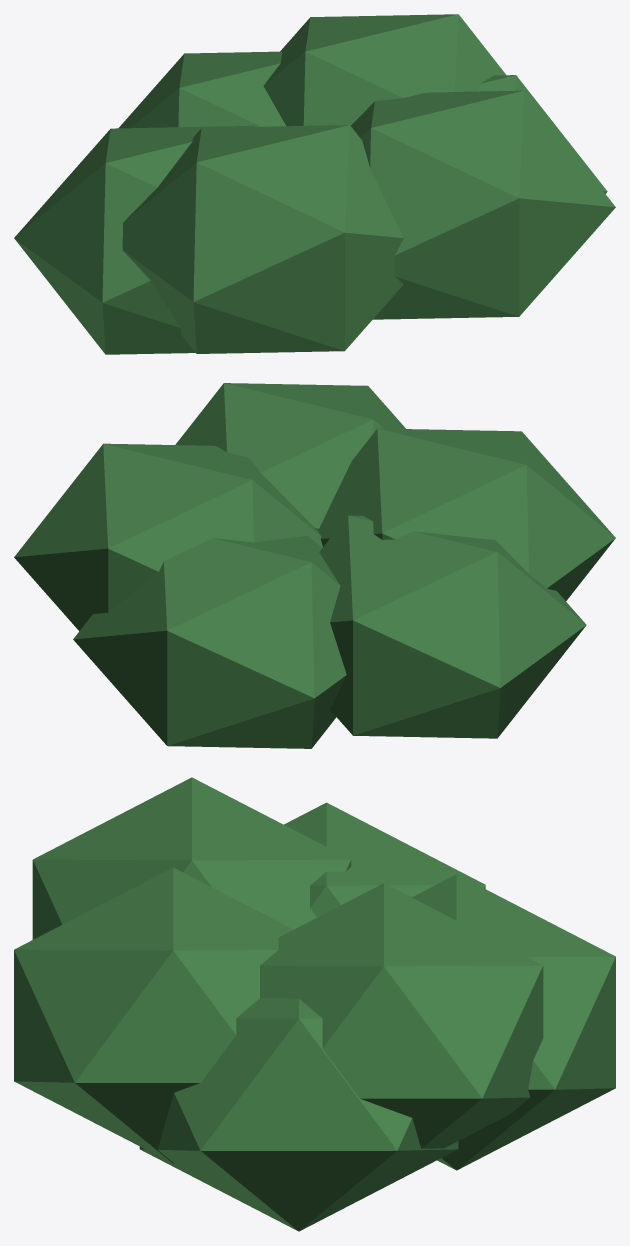
The model's file is coastal-bush.glb.
The picture shows the model from 3 angles, top to bottom: view 1: azimuth 30°, elevation 25°; view 2: azimuth 150°, elevation 25°; view 3: azimuth 270°, elevation 25°; orthographic projection. The views are drawn at different scales.
Parts seen in each view (by area): view 1: Прибрежный кустарник; view 2: Прибрежный кустарник; view 3: Прибрежный кустарник.
Boxes of the visible parts, x1,y1,x2,y2 form: Прибрежный кустарник: [14, 14, 615, 354]; Прибрежный кустарник: [14, 383, 615, 748]; Прибрежный кустарник: [14, 777, 615, 1231].
Size of the model in its own units: 2.2 by 0.9766 by 2.09.
